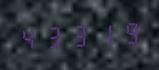four: (18, 23, 41, 51)
nine: (114, 18, 137, 46)
one: (90, 19, 113, 48)
three: (42, 21, 65, 50), (66, 20, 89, 49)
